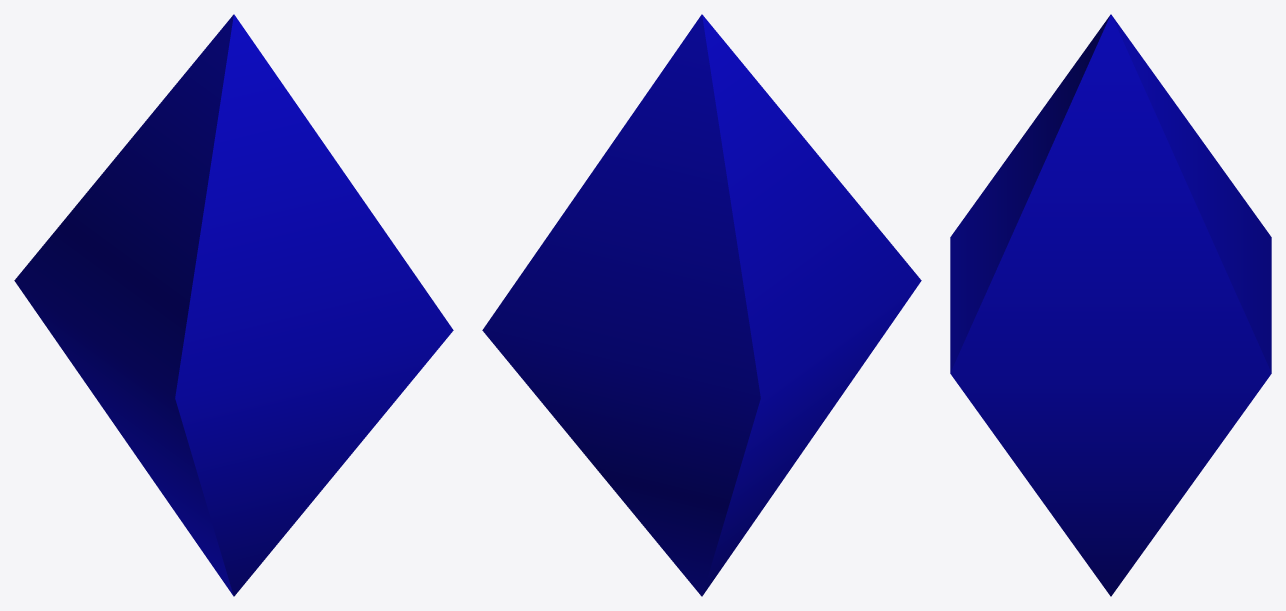
File: Bipyramid_0.5x1.0x0.5_Plain_1.1.0.fbx
3 renders of one model, left to right at view 1: azimuth 30°, elevation 25°; view 2: azimuth 150°, elevation 25°; view 3: azimuth 270°, elevation 25°, orthographic.
Parts seen in each view (by area): view 1: bprm_Body; view 2: bprm_Body; view 3: bprm_Body.
Part boxes in pixels (x1,y1,x2,y2): bprm_Body: [14, 14, 453, 596]; bprm_Body: [482, 14, 921, 596]; bprm_Body: [950, 14, 1271, 596].
Size of the model in its own units: 50 by 100 by 50.
